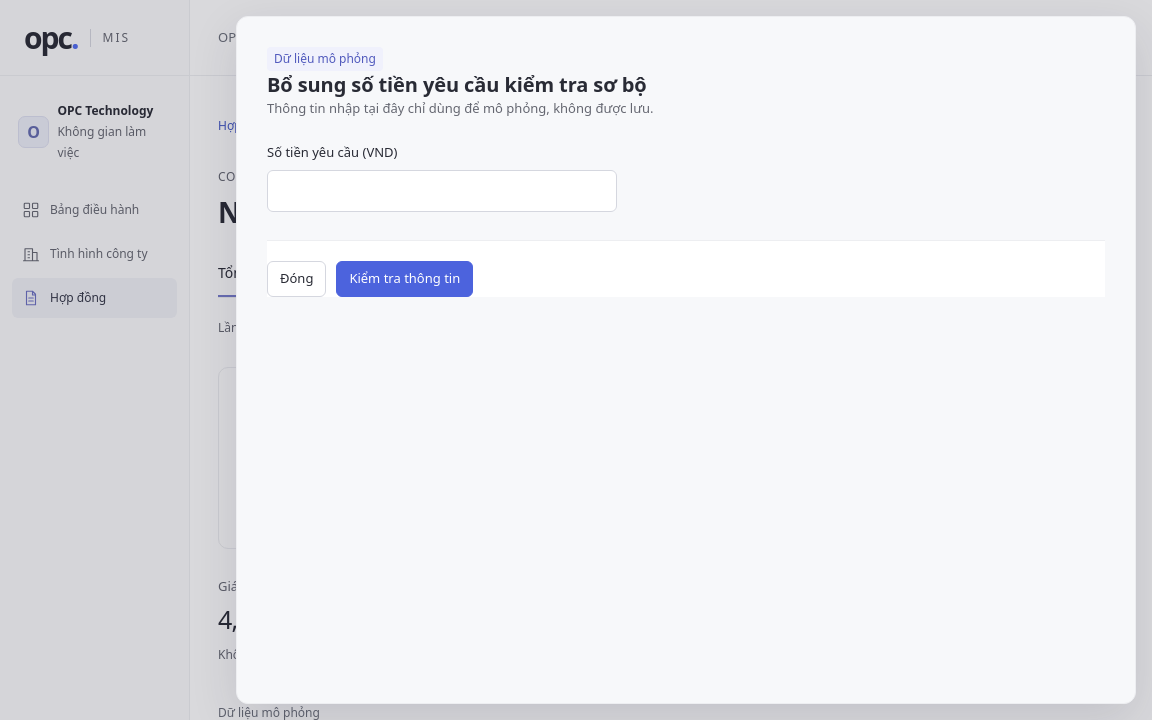
Test: isolated executive preview › validates the demo input without patching or resuming a workflow
Click the button "Kiểm tra thông tin".
click(405, 278)  # box [336,260,473,296]
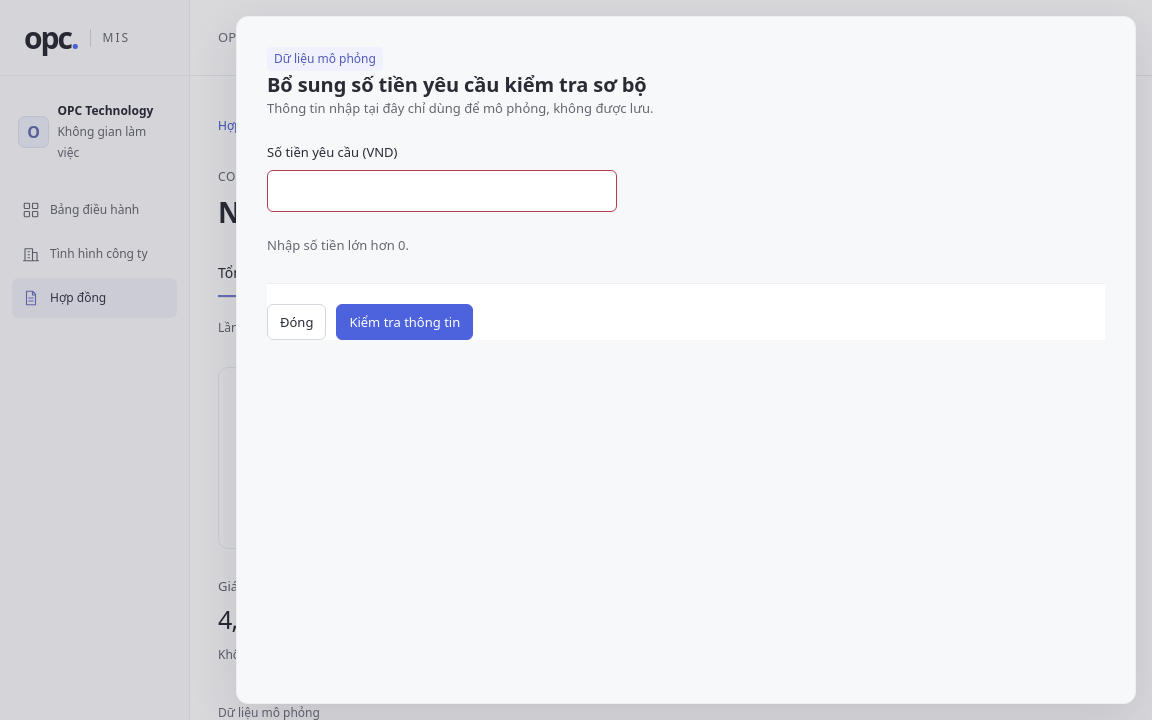
Expected: the message shows "Nhập số tiền lớn hơn 0", [267,236,409,254]
Type "1000000" into the number field labelled "Số tiền yêu cầu (VND)".
click(442, 191); type("1000000")  # box [267,170,617,212]
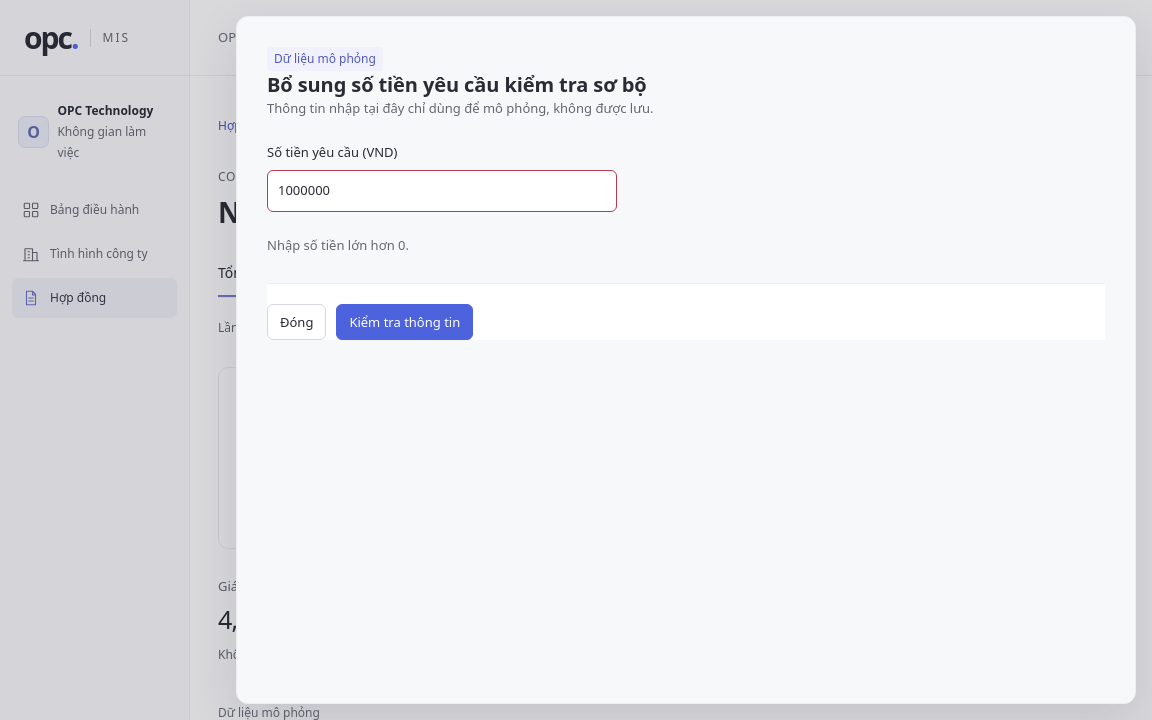
Click the button "Kiểm tra thông tin".
click(405, 322)  # box [336,304,473,340]
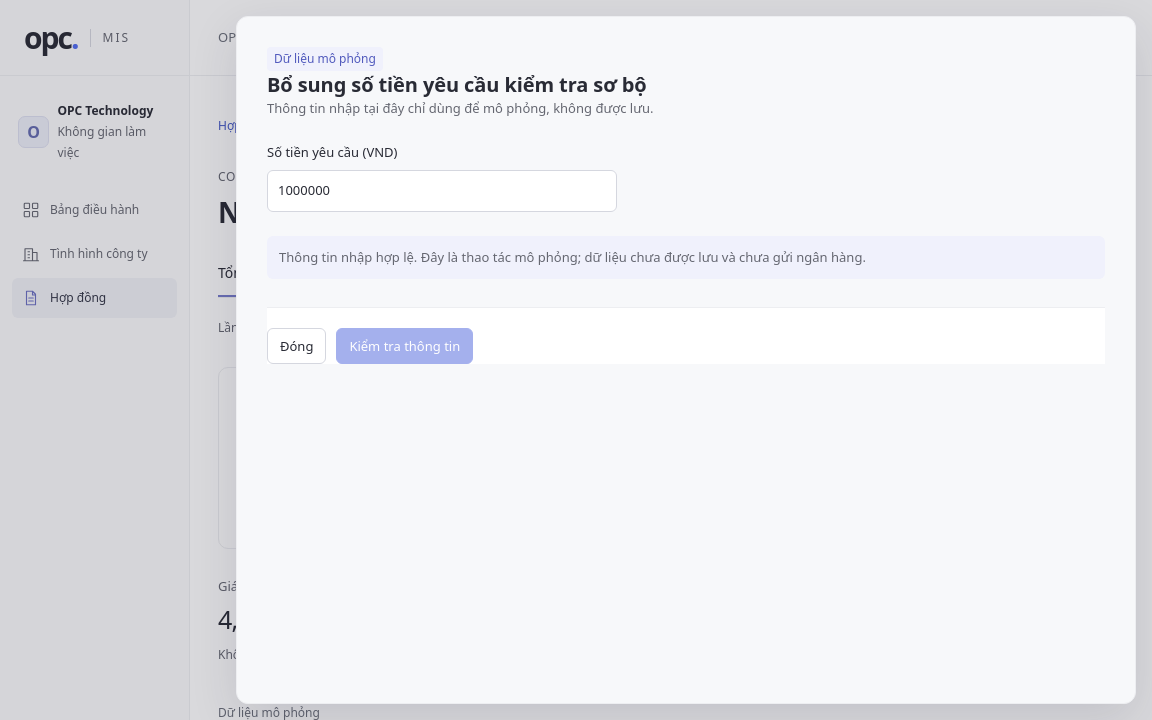
Expected: the message shows "dữ liệu chưa được lưu và chưa gửi ngân hàng", [279,248,866,266]
